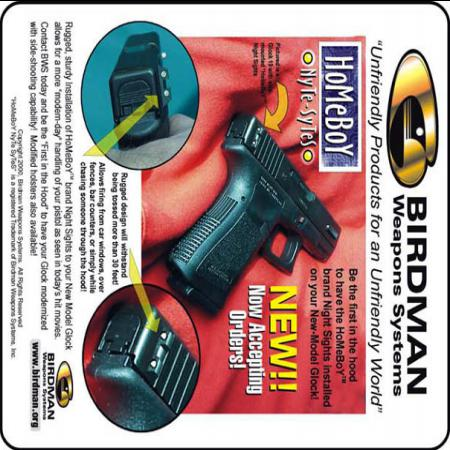Pistol: (166, 111, 346, 315)
